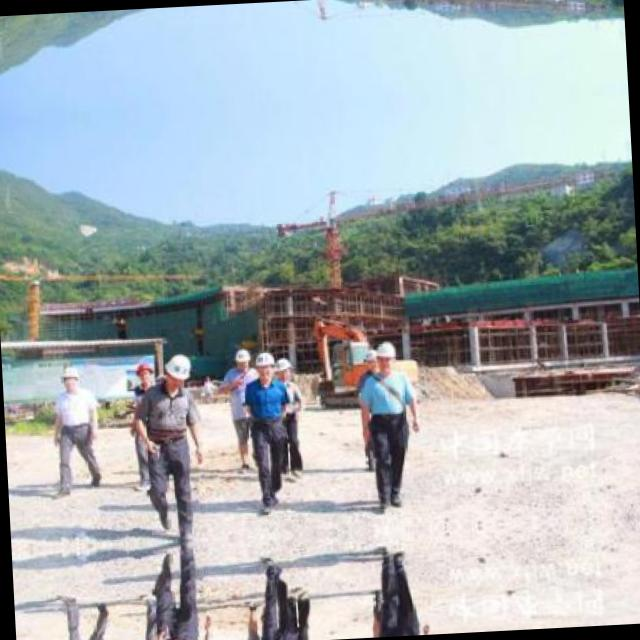helmet: (162, 349, 192, 392), (376, 339, 398, 374), (254, 348, 274, 381), (361, 348, 379, 376), (58, 365, 78, 390), (233, 343, 251, 370), (134, 362, 154, 386), (276, 355, 292, 385)
